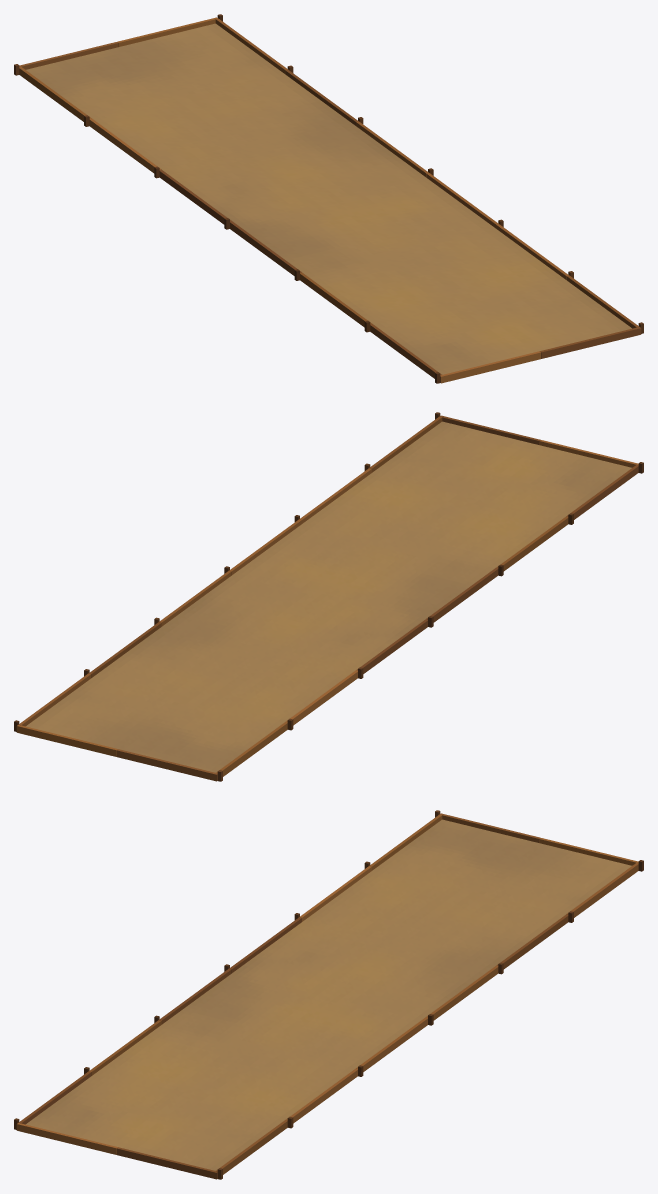
File: court.glb
3 views of the same model, one above another, from view 1: azimuth 30°, elevation 25°; view 2: azimuth 150°, elevation 25°; view 3: azimuth 330°, elevation 25° (orthographic).
Visible parts, largest first — view 1: court_gravel, court_boards; view 2: court_gravel, court_boards; view 3: court_gravel, court_boards.
Part boxes in pixels (x1,y1,x2,y2): court_gravel: (26, 23, 631, 374); court_boards: (14, 14, 643, 383); court_gravel: (26, 421, 631, 772); court_boards: (14, 412, 643, 781); court_gravel: (26, 819, 631, 1170); court_boards: (14, 810, 643, 1179).
Size of what is drawn, in the model's own units: 4.26 by 0.19 by 15.12.
